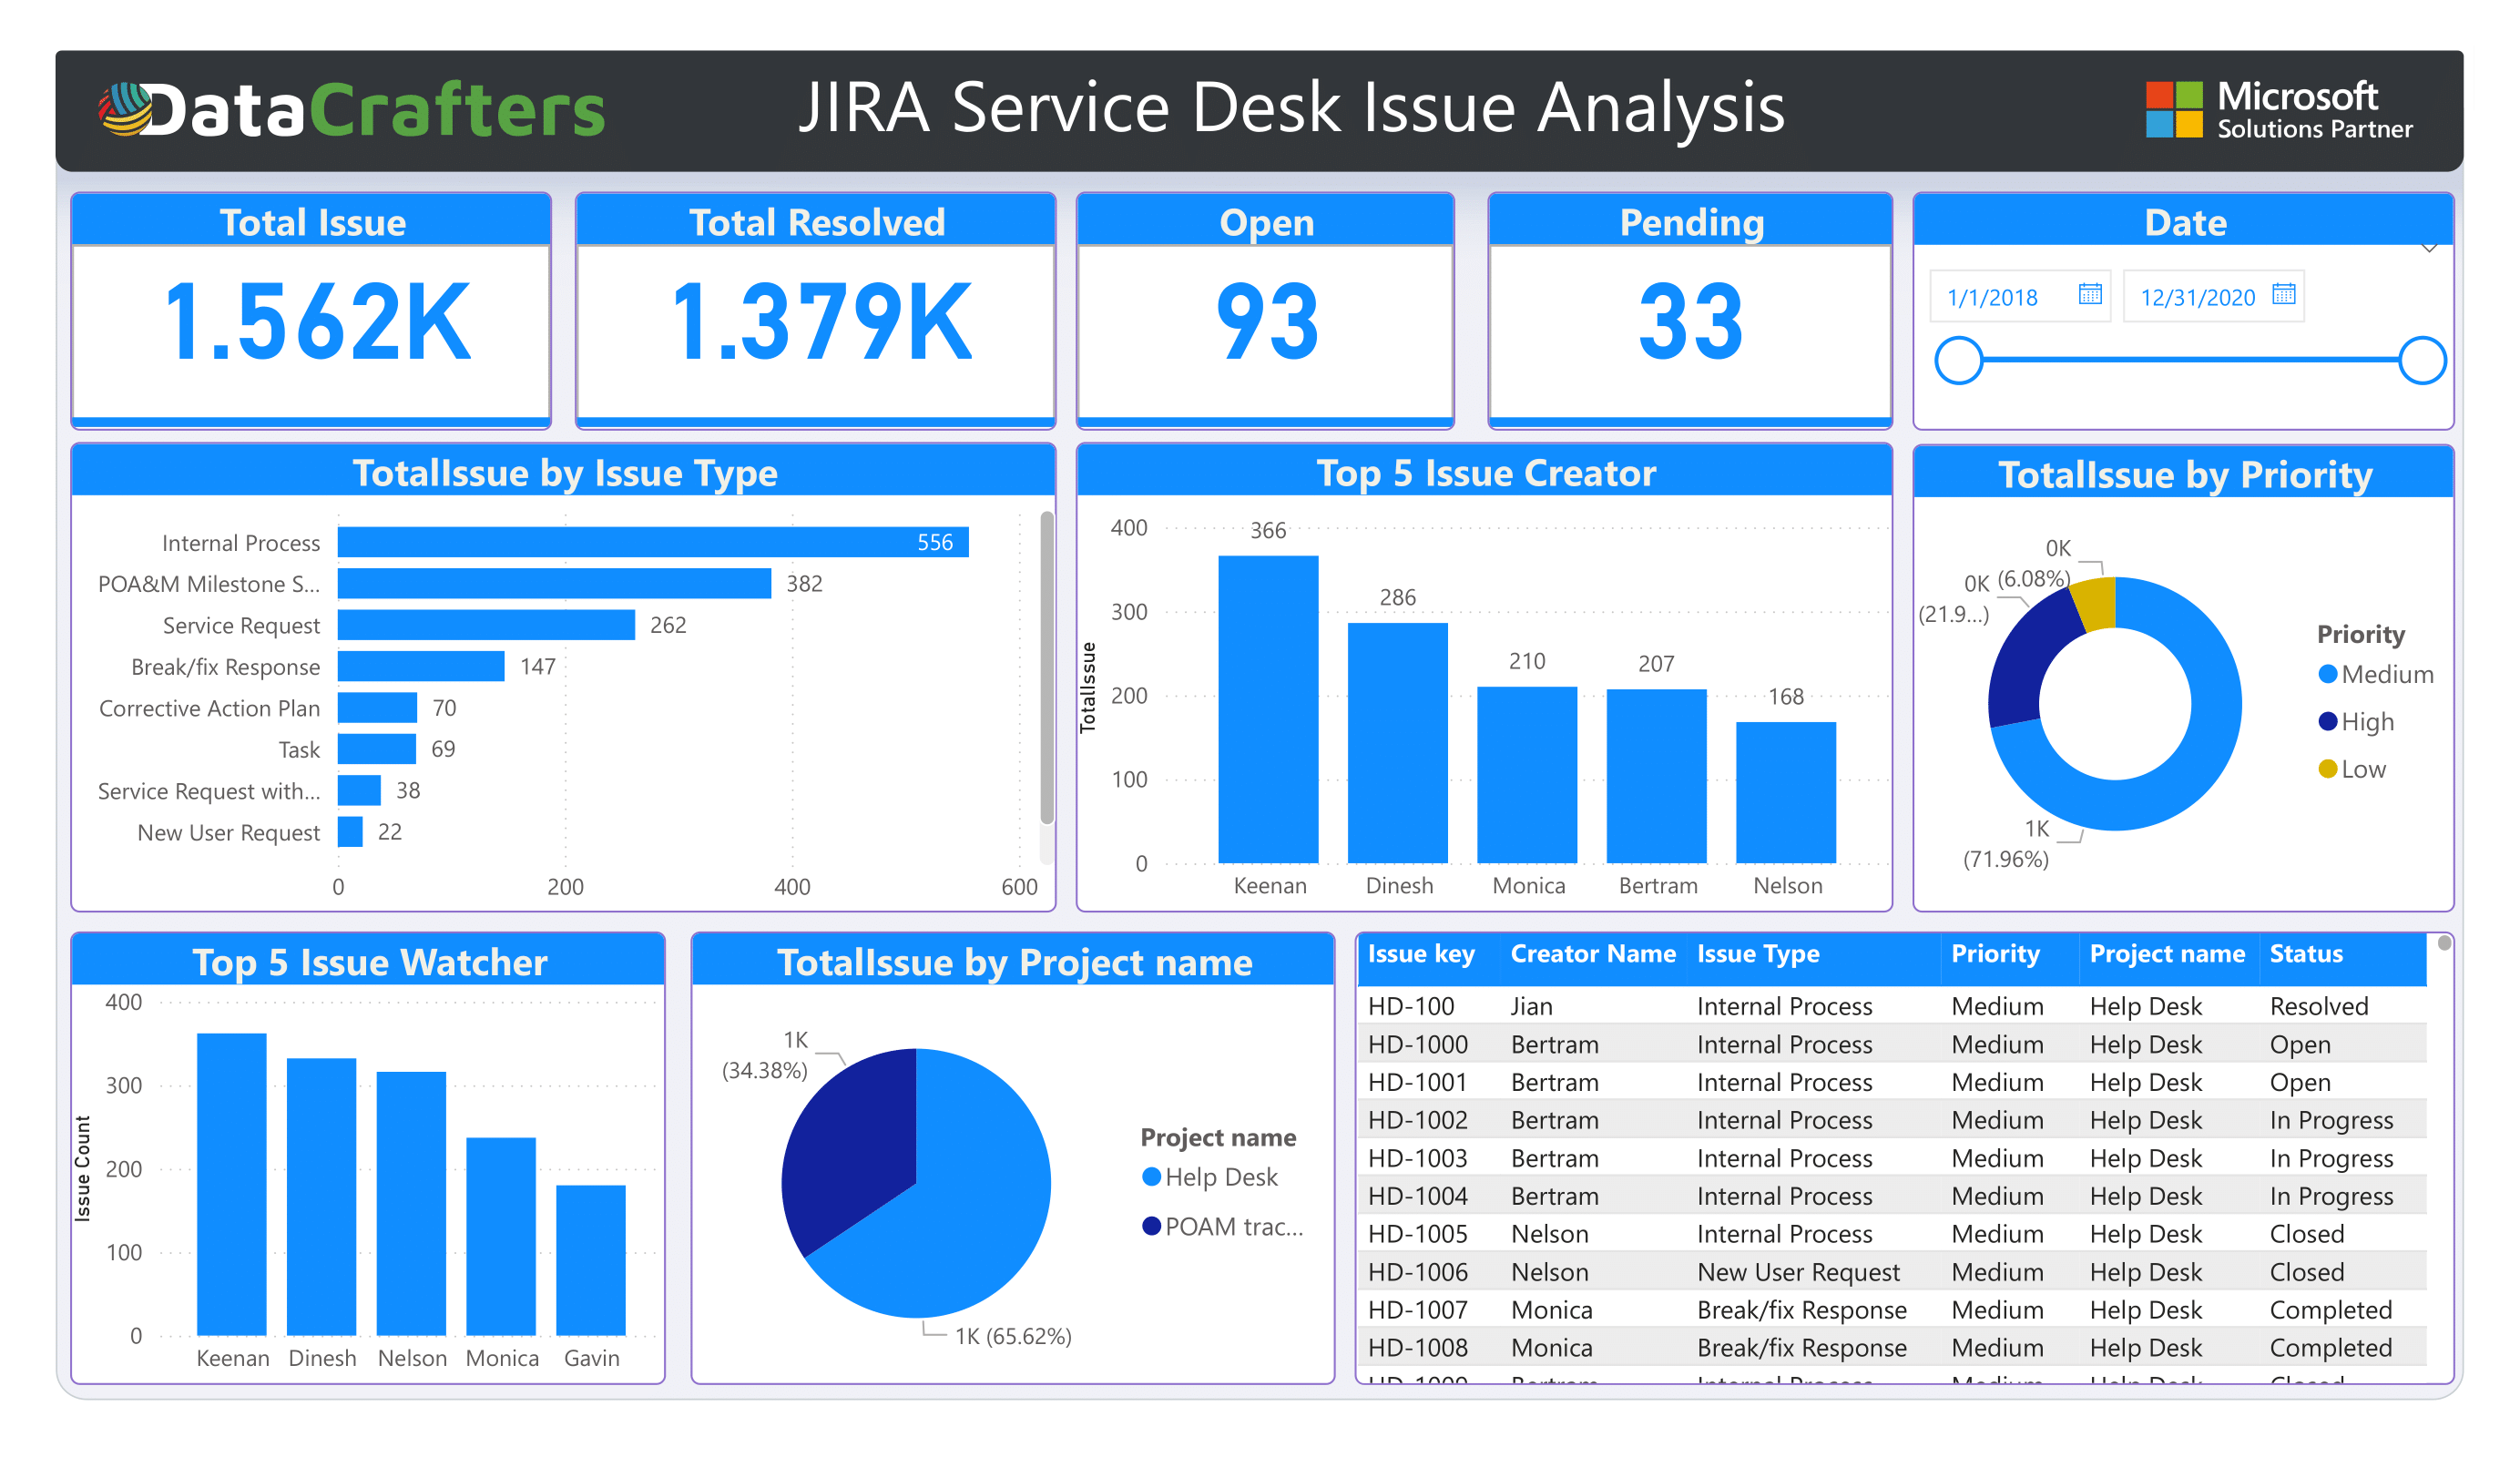

Layout of this report page (visuals, bound fields, positions):
{"tool":"powerbi","page":{"name":"Page 1","canvas":[1280,720],"ordinal":0},"visuals":[{"type":"textbox","box":[392.5,0,555.7,71.4],"z":0},{"type":"cardVisual","title":"Open","fields":{"Data":["Table.Open"]},"box":[542.9,77.1,200,125.7],"z":6000},{"type":"cardVisual","title":"Pending","fields":{"Data":["Table.Pending"]},"box":[760,77.1,214.3,125.7],"z":7000},{"type":"cardVisual","title":"Total Resolved","fields":{"Data":["Table.TotalResolved"]},"box":[278.6,77.1,254.3,125.7],"z":8000},{"type":"cardVisual","title":"Total Issue","fields":{"Data":["Table.TotalIssue"]},"box":[12.9,77.1,254.3,125.7],"z":8001},{"type":"tableEx","fields":{"Values":["fact.Issue key","dim_Creator.Creator Name","dim_Issue Type.Issue Type","dim_Priority.Priority","dim_Project.Project name","dim_Status.Status"]},"box":[690,467.1,580,238.6],"z":8003},{"type":"barChart","fields":{"Category":["dim_Issue Type.Issue Type"],"Y":["Table.TotalIssue"]},"box":[12.9,208.6,520,248.6],"z":8004},{"type":"pieChart","fields":{"Category":["dim_Project.Project name"],"Y":["Table.TotalIssue"]},"box":[340,467.1,340,238.6],"z":8005},{"type":"columnChart","title":"Top 5 Issue Creator","fields":{"Category":["dim_Creator.Creator Name"],"Y":["Table.TotalIssue"]},"box":[542.9,208.6,431.4,248.6],"z":8006},{"type":"donutChart","fields":{"Y":["Table.TotalIssue"],"Category":["dim_Priority.Priority"]},"box":[984.3,210,285.7,247.1],"z":8007},{"type":"clusteredColumnChart","title":"Top 5 Issue Watcher","fields":{"Y":["Table.Watcher_count"],"Category":["dim_Watcher.Watcher Name"]},"box":[12.9,467.1,314.3,238.6],"z":8008},{"type":"slicer","title":"Date","fields":{"Values":["dim_Date.Date"]},"box":[984.3,77.1,285.7,125.7],"z":8009}]}

Visuals, with their boxes on the page's 1280x720 design canvas (x1, y1, x2, y2). These are canvas units, not pixel positions in the 2520x1457 screenshot, which may show the page scaled, cropped or inside an application window:
textbox: <region>392, 0, 948, 71</region>
"Open" cardVisual: <region>543, 77, 743, 203</region>
"Pending" cardVisual: <region>760, 77, 974, 203</region>
"Total Resolved" cardVisual: <region>279, 77, 533, 203</region>
"Total Issue" cardVisual: <region>13, 77, 267, 203</region>
tableEx - fact.Issue key x dim_Creator.Creator Name: <region>690, 467, 1270, 706</region>
barChart - dim_Issue Type.Issue Type x Table.TotalIssue: <region>13, 209, 533, 457</region>
pieChart - dim_Project.Project name x Table.TotalIssue: <region>340, 467, 680, 706</region>
"Top 5 Issue Creator" columnChart: <region>543, 209, 974, 457</region>
donutChart - Table.TotalIssue x dim_Priority.Priority: <region>984, 210, 1270, 457</region>
"Top 5 Issue Watcher" clusteredColumnChart: <region>13, 467, 327, 706</region>
"Date" slicer: <region>984, 77, 1270, 203</region>
